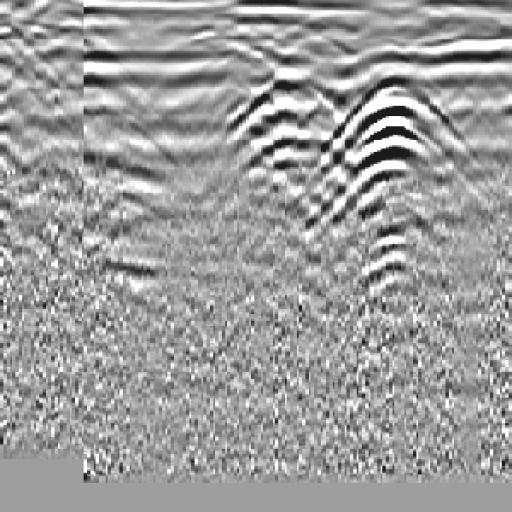metalic: (296, 43, 493, 335)
